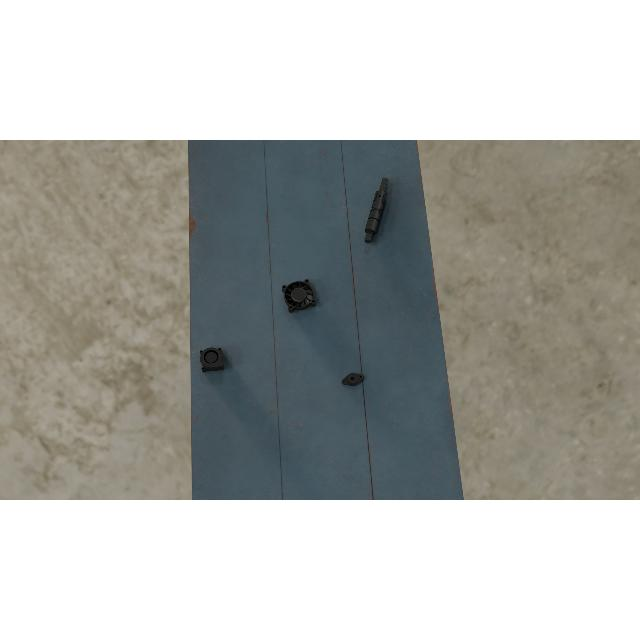Pieza1: (362, 175, 391, 245)
Pieza2: (340, 370, 366, 388)
Pieza3: (198, 346, 224, 374)
Pieza4: (281, 278, 317, 314)
